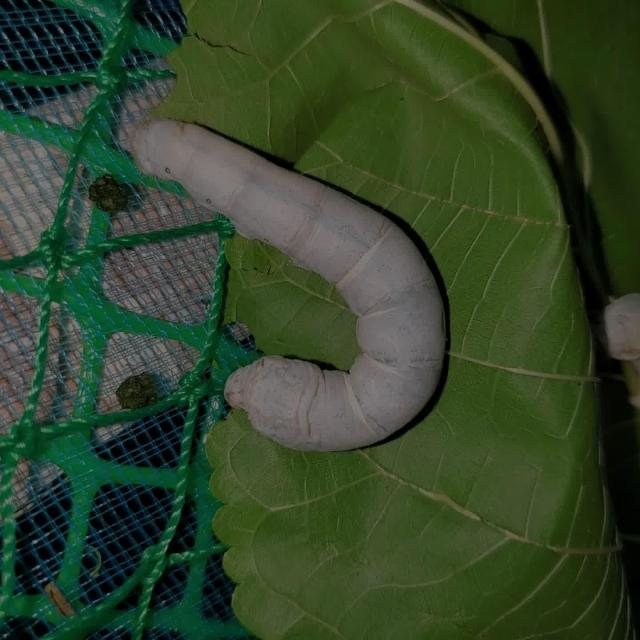Healthy: (119, 110, 462, 456)
